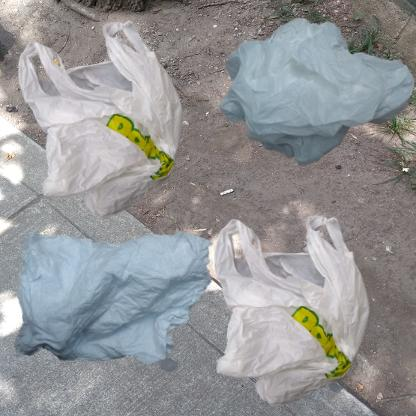bolsa: (10, 10, 212, 243), (213, 10, 416, 182), (213, 213, 372, 409)
papel: (10, 213, 223, 381)
